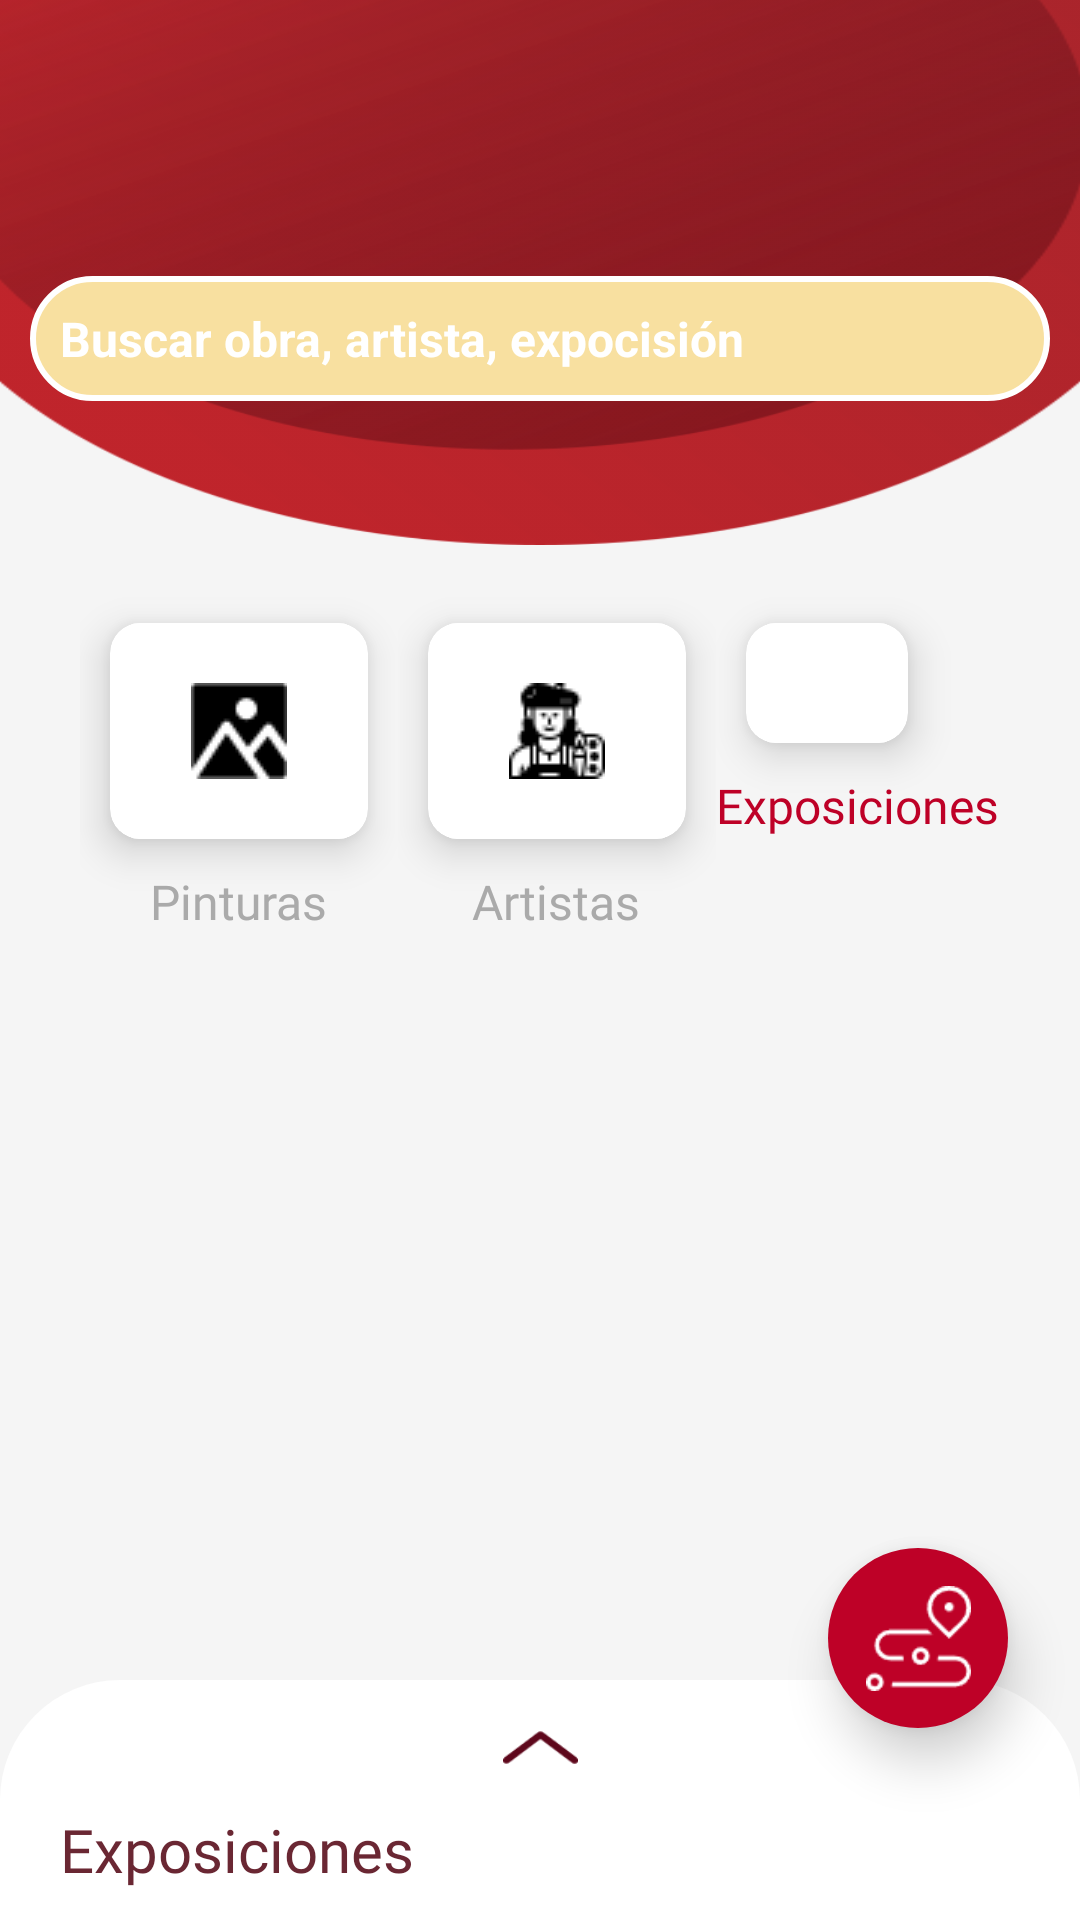

Named icons in this screenshot (1080w x 1920h) and their centers, [x,y]:
track: [918,1638]
up arrow: [540,1747]
